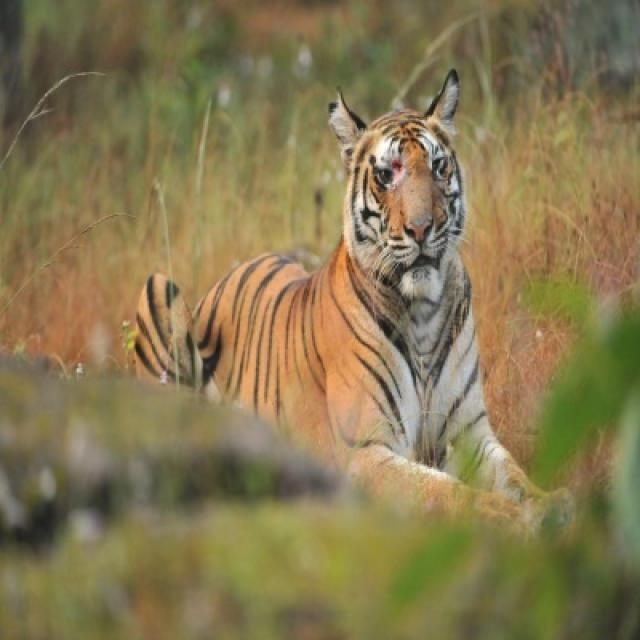Tiger: (124, 73, 557, 528)
